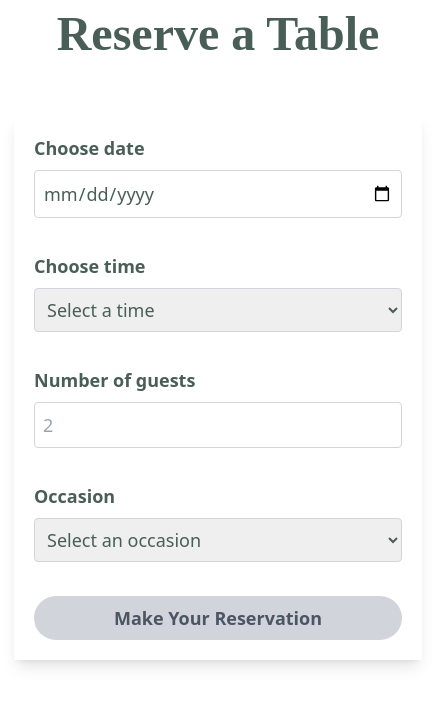
Test case: Validates guests input
In the number field labelled "Number of guests": (218, 425) [34, 402, 402, 448], type "1"
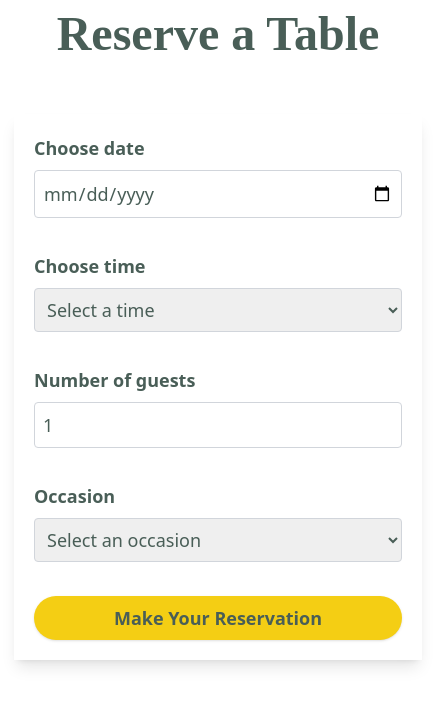
Leave the number field labelled "Number of guests", box [34, 402, 402, 448]
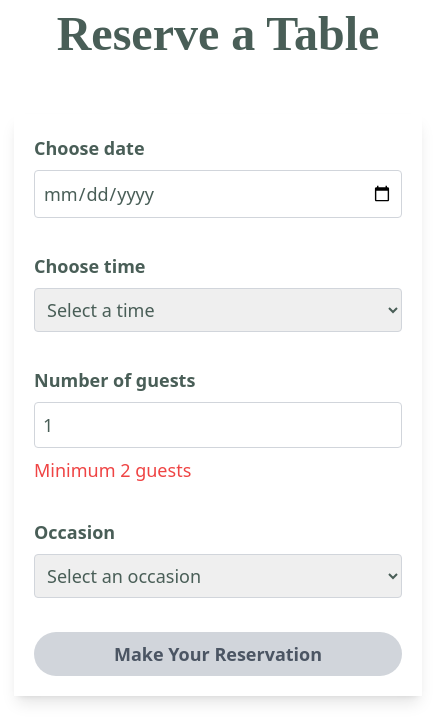
Result: the text "Minimum 2 guests" is shown at [34, 458, 191, 482]
Replace the text in the number field labelled "Number of guests" with "12": (218, 425) [34, 402, 402, 448]
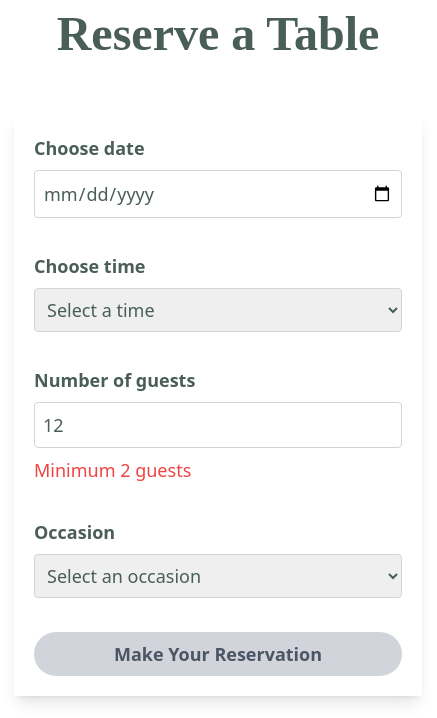
Leave the number field labelled "Number of guests", box [34, 402, 402, 448]
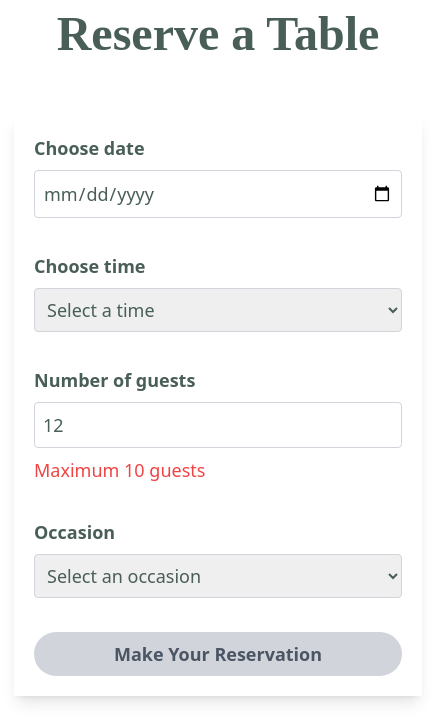
Result: the text "Maximum 10 guests" is shown at [34, 458, 205, 482]
